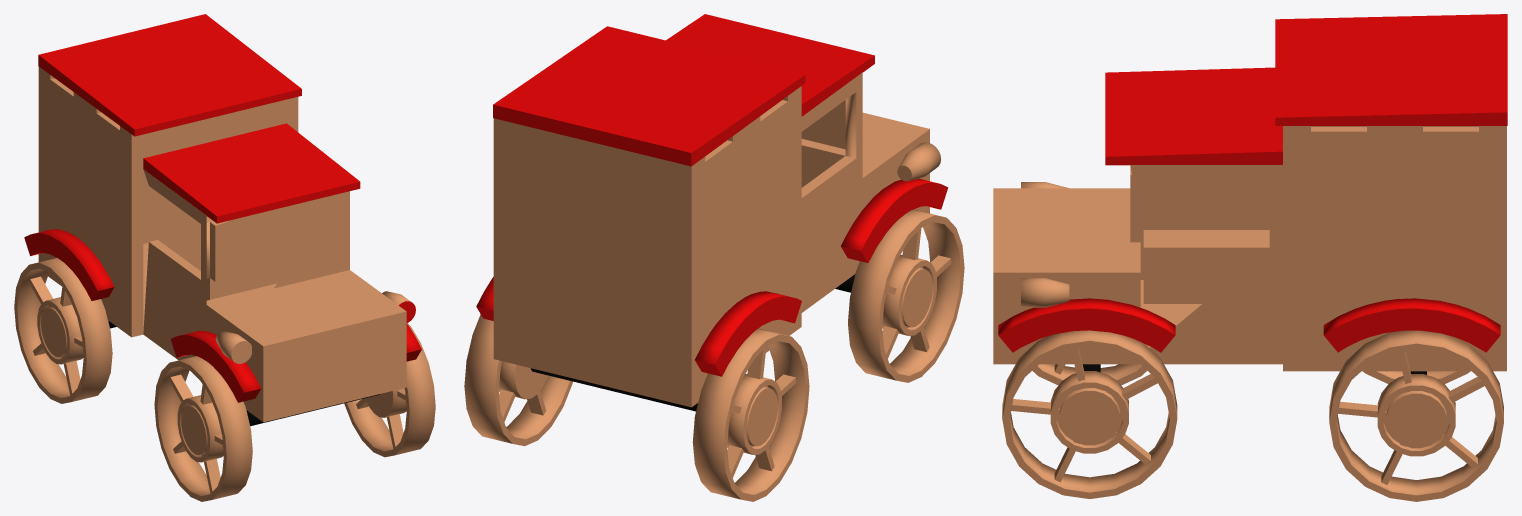
Rendered from toy-car.dae.
3 renders of one model, left to right at view 1: azimuth 30°, elevation 25°; view 2: azimuth 150°, elevation 25°; view 3: azimuth 270°, elevation 25°, orthographic. The views are drawn at different scales.
Parts seen in each view (by area): view 1: group3_Kamyon_teker_2; view 2: group3_Kamyon_teker_2; view 3: group3_Kamyon_teker_2.
Part boxes in pixels (box(x1,y1,x2,y2)): group3_Kamyon_teker_2: box(14, 14, 435, 501); group3_Kamyon_teker_2: box(464, 14, 964, 501); group3_Kamyon_teker_2: box(993, 14, 1507, 501).
Size of the model in its own units: 0.0631 by 0.1066 by 0.0857.
